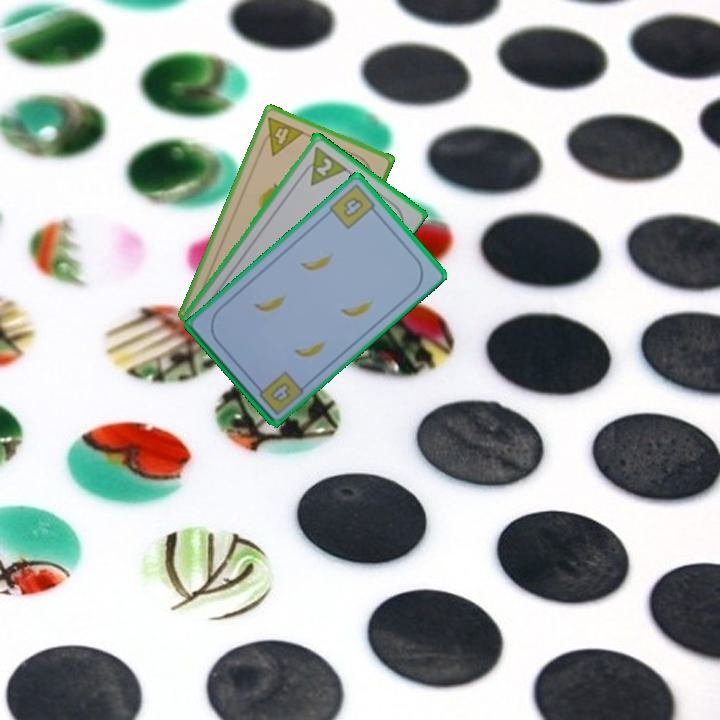2p: (312, 153, 335, 179)
4b: (325, 180, 381, 232), (266, 378, 293, 405)
4p: (256, 113, 307, 158)
